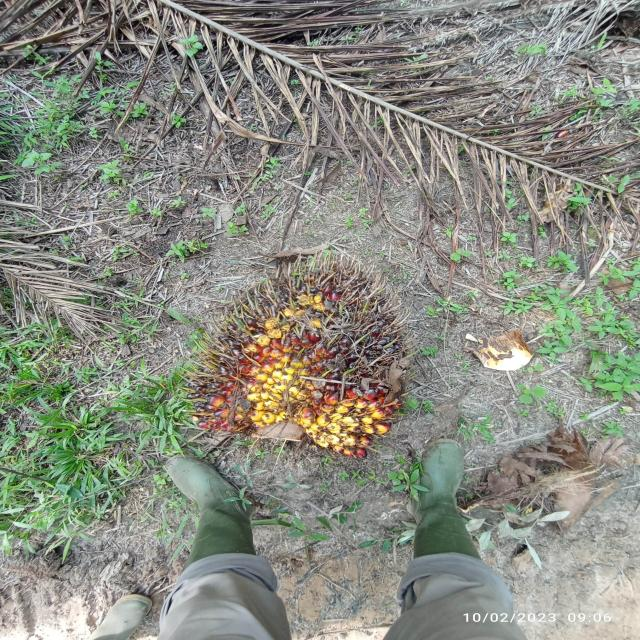fraksi 1: (150, 240, 450, 458)
